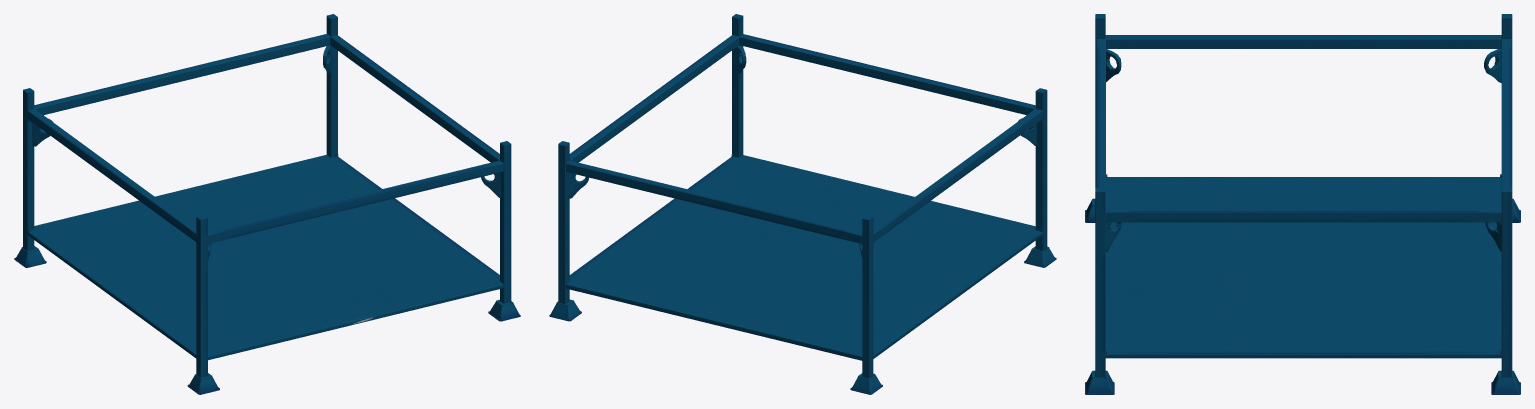
Rendered from Stillage.glb.
3 views of the same model, side by side, from view 1: azimuth 30°, elevation 25°; view 2: azimuth 150°, elevation 25°; view 3: azimuth 270°, elevation 25° (orthographic). The views are drawn at different scales.
Visible parts, largest first — view 1: Stillage; view 2: Stillage; view 3: Stillage.
Part boxes in pixels (box(x1,y1,x2,y2)): Stillage: box(14, 14, 520, 394); Stillage: box(549, 14, 1056, 394); Stillage: box(1085, 14, 1520, 394).
Bounding box in the file's own units: 1.5 × 0.7598 × 1.5.
1 material, 1 textured.
